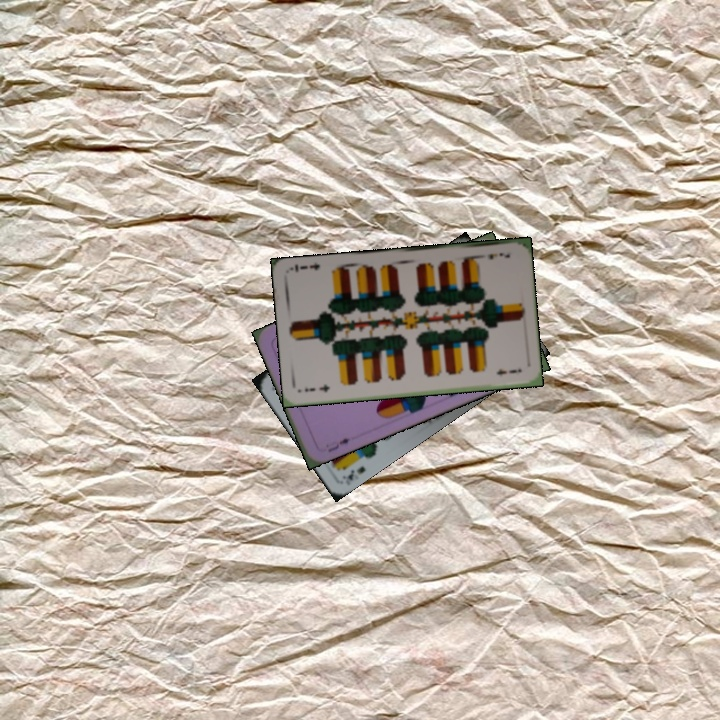E7: (475, 249, 512, 262), (301, 380, 332, 395)
EK: (338, 462, 368, 488)
EU: (324, 434, 353, 455)
